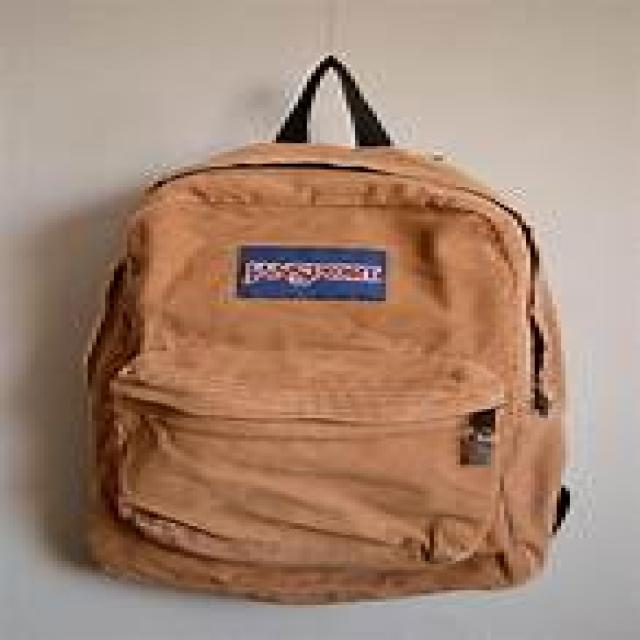backpack: (75, 54, 571, 606)
